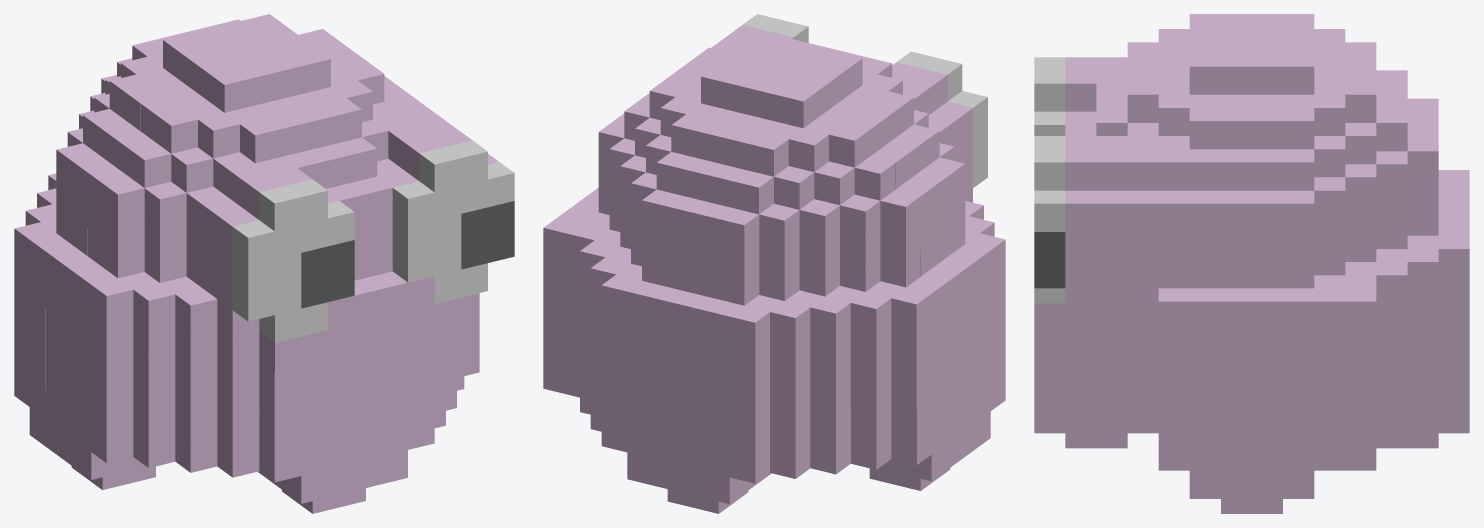
The model's file is ghost_pink.glb.
3 renders of one model, left to right at view 1: azimuth 30°, elevation 25°; view 2: azimuth 150°, elevation 25°; view 3: azimuth 270°, elevation 25°, orthographic. The views are drawn at different scales.
Visible parts, largest first — view 1: Mesh_Mesh_head_geo.001_lambert2SG.001; view 2: Mesh_Mesh_head_geo.001_lambert2SG.001; view 3: Mesh_Mesh_head_geo.001_lambert2SG.001.
Part boxes in pixels (left/top/right/bottom): Mesh_Mesh_head_geo.001_lambert2SG.001: left=14, top=14, right=514, bottom=513; Mesh_Mesh_head_geo.001_lambert2SG.001: left=543, top=14, right=1005, bottom=513; Mesh_Mesh_head_geo.001_lambert2SG.001: left=1034, top=14, right=1469, bottom=513.
Size of the model in its own units: 0.07 by 0.07 by 0.07.
